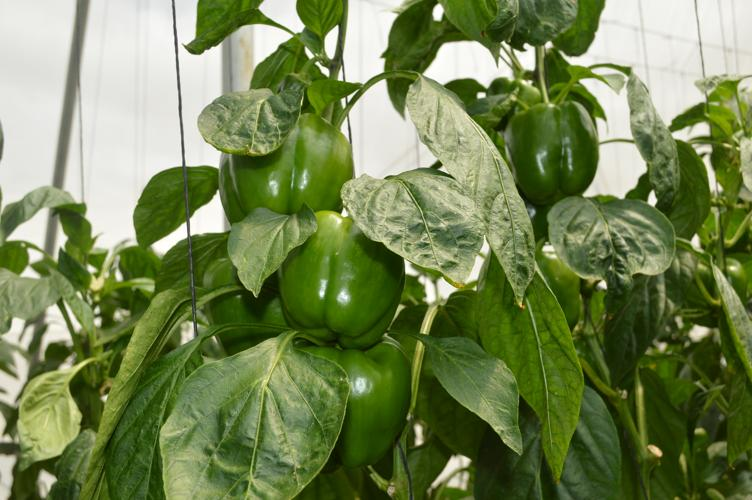BellPepper: (276, 214, 404, 351), (219, 112, 347, 227), (301, 340, 416, 467), (504, 102, 593, 203), (201, 264, 294, 358)
